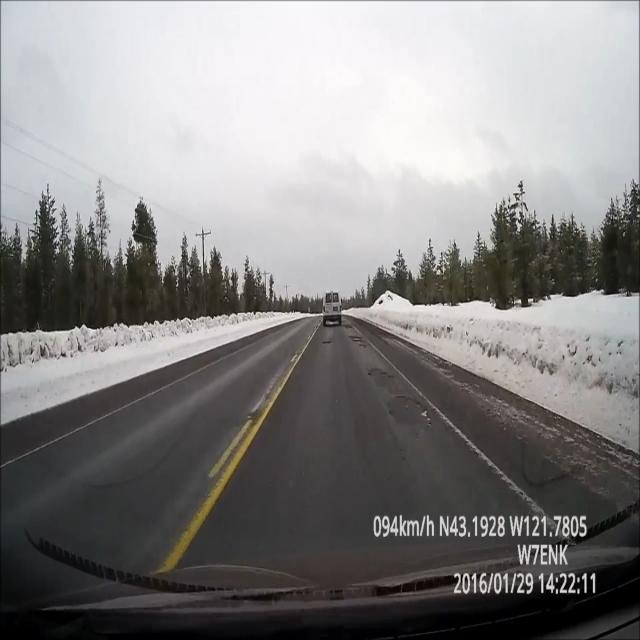Pothole: (369, 361, 436, 440), (351, 328, 372, 354), (316, 330, 334, 356)
